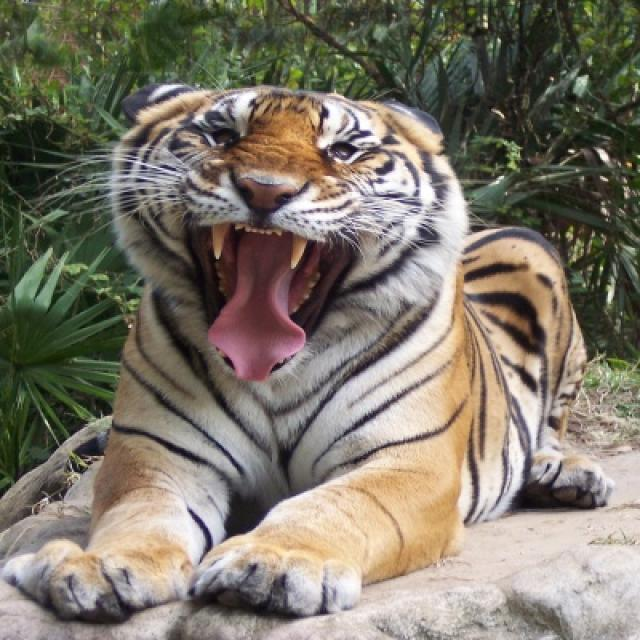Tiger: (0, 83, 610, 619)
